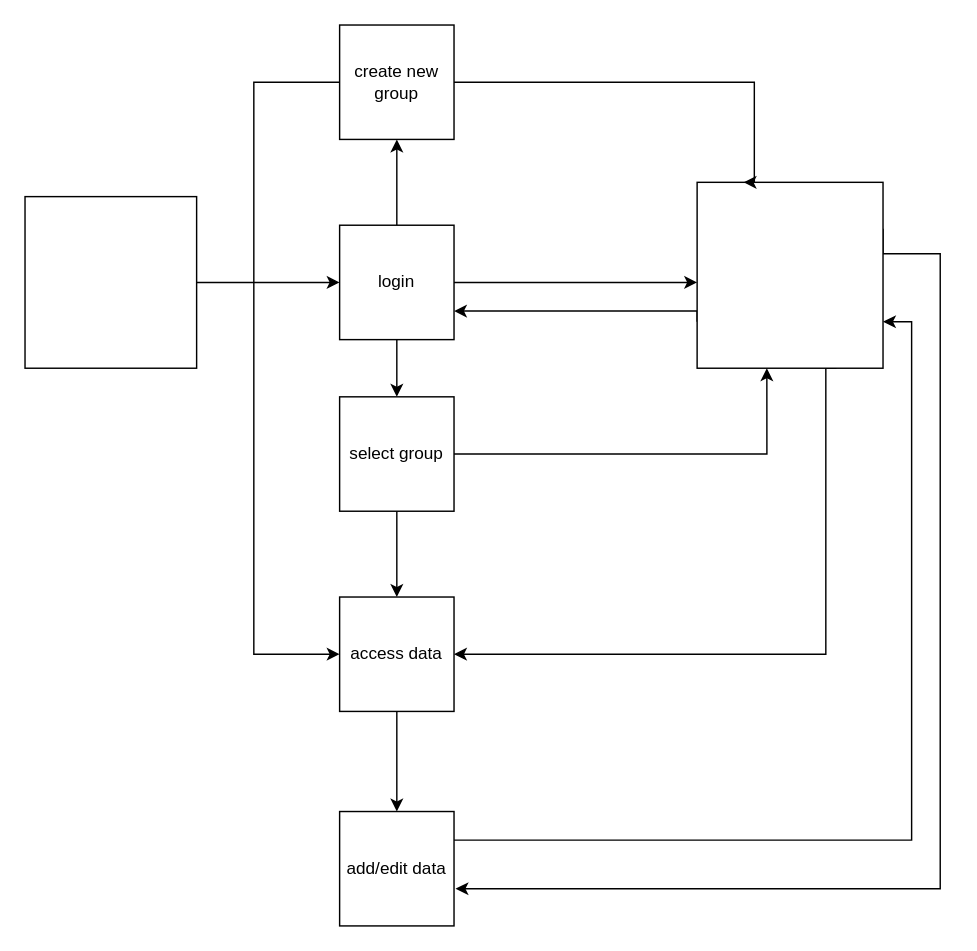
Image size: 977x951. Some labels were removed from this diagram. Here are the shapes that lost their labels. From the top down, the centre of each, then its label:
At [110,281]: "extension".
At [789,274]: "database".
